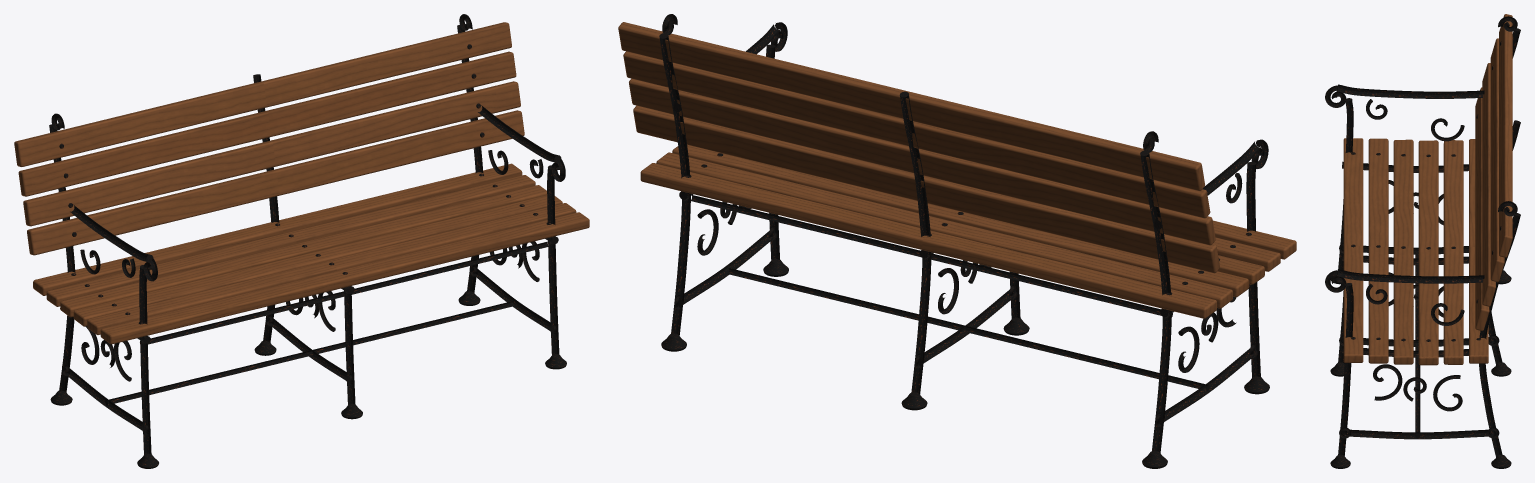
File: w3_court_bench.glb
3 renders of one model, left to right at view 1: azimuth 30°, elevation 25°; view 2: azimuth 150°, elevation 25°; view 3: azimuth 270°, elevation 25°, orthographic. The views are drawn at different scales.
Visible parts, largest first — view 1: w3_court_bench; view 2: w3_court_bench; view 3: w3_court_bench.
Part boxes in pixels (box(x1,y1,x2,y2)): w3_court_bench: box(14, 14, 589, 468); w3_court_bench: box(618, 14, 1296, 468); w3_court_bench: box(1325, 14, 1520, 468).
Size of the model in its own units: 1.64 by 0.9079 by 0.6091.
Materials: 2 (2 with a texture image).
